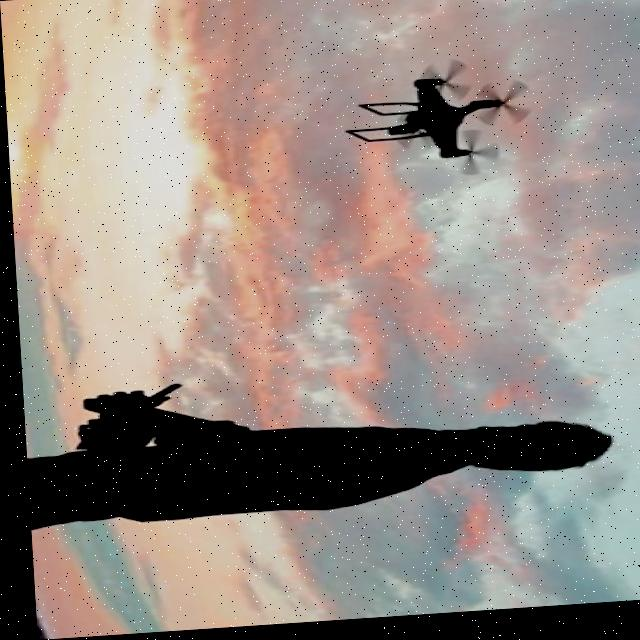drone: (334, 63, 533, 184)
